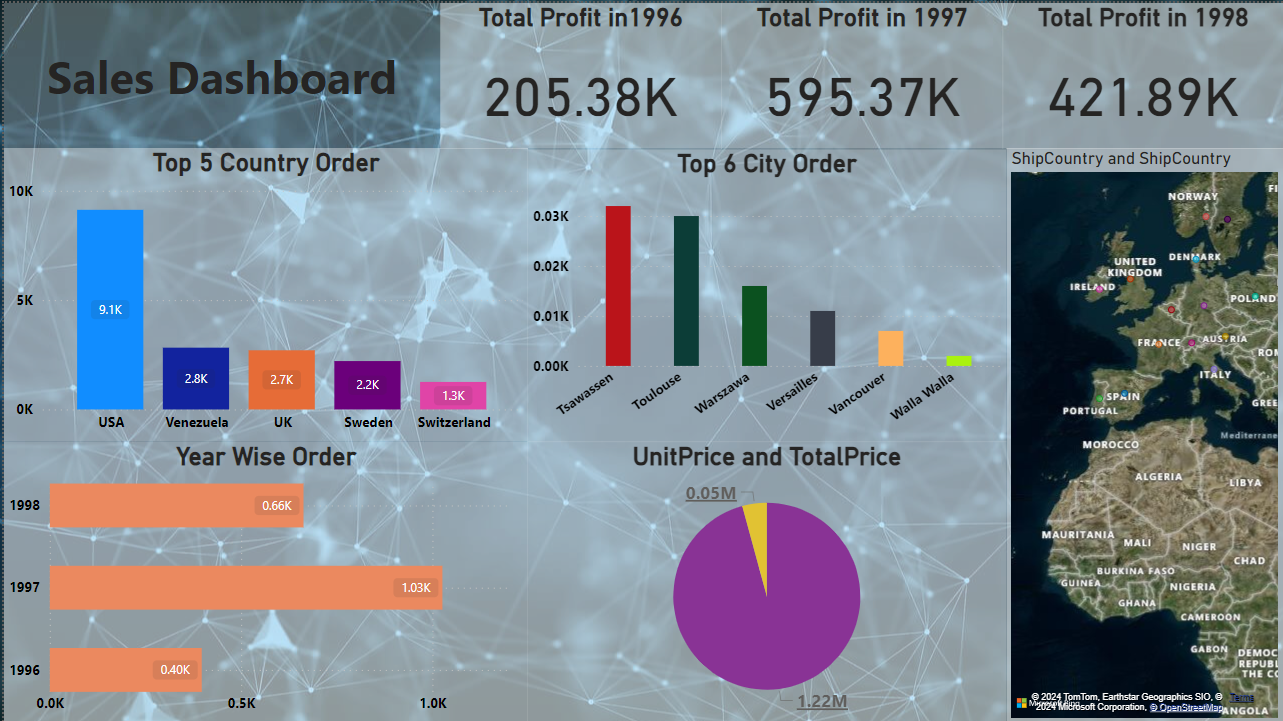

The dashboard page shown, as its layout file describes it:
{"tool":"powerbi","page":{"name":"Page 1","canvas":[1280,720],"ordinal":0},"visuals":[{"type":"barChart","title":"Year Wise Order","fields":{"Category":["Orders.OrderDate.Variation.Date Hierarchy.Year","Orders.OrderDate.Variation.Date Hierarchy.Quarter","Orders.OrderDate.Variation.Date Hierarchy.Month","Orders.OrderDate.Variation.Date Hierarchy.Day"],"Y":["CountNonNull(Order_Details.OrderID)"]},"box":[0,439.1,524.2,281.3],"z":0},{"type":"columnChart","title":"Top 5 Country Order","fields":{"Category":["Orders.ShipCountry"],"Y":["Sum(Order_Details.Quantity)"],"Series":["Orders.ShipCountry"]},"box":[0,145.5,524.2,293.7],"z":1000},{"type":"map","fields":{"Category":["Orders.ShipCountry"],"Series":["Orders.ShipCountry"]},"box":[1003.1,145.5,277.2,575],"z":2000},{"type":"card","title":"Total Profit in1996","fields":{"Values":["Sum(Order_Details.TotalPrice)"]},"box":[436.4,0,281.3,145.5],"z":3000},{"type":"card","title":"Total Profit in 1997","fields":{"Values":["Sum(Order_Details.TotalPrice)"]},"box":[717.7,0,281.3,145.5],"z":4000},{"type":"card","title":"Total Profit in 1998","fields":{"Values":["Sum(Order_Details.TotalPrice)"]},"box":[998.7,0,281.3,145.5],"z":5000},{"type":"ribbonChart","title":"Top 6 City Order","fields":{"Category":["Orders.ShipCity"],"Y":["CountNonNull(Order_Details.OrderID)"],"Series":["Orders.ShipCity"]},"box":[524.3,145.7,478.6,292.9],"z":6000},{"type":"pieChart","title":"UnitPrice and TotalPrice","fields":{"Y":["Sum(Order_Details.TotalPrice)","Sum(Order_Details.UnitPrice)"]},"box":[524.3,438.6,478.6,281.4],"z":6001},{"type":"actionButton","title":"Sales Dashboard","box":[0,42.5,436.2,60],"z":6002}]}

Visuals, with their boxes in screenshot pixels (x1, y1, x2, y2), scaled from the page's 1280x720 canvas onto the 1283x721 screenshot:
"Year Wise Order" barChart: {"left": 0, "top": 440, "right": 525, "bottom": 720}
"Top 5 Country Order" columnChart: {"left": 0, "top": 146, "right": 525, "bottom": 440}
map - Orders.ShipCountry x Orders.ShipCountry: {"left": 1005, "top": 146, "right": 1282, "bottom": 720}
"Total Profit in1996" card: {"left": 437, "top": 0, "right": 719, "bottom": 146}
"Total Profit in 1997" card: {"left": 719, "top": 0, "right": 1001, "bottom": 146}
"Total Profit in 1998" card: {"left": 1001, "top": 0, "right": 1282, "bottom": 146}
"Top 6 City Order" ribbonChart: {"left": 526, "top": 146, "right": 1005, "bottom": 439}
"UnitPrice and TotalPrice" pieChart: {"left": 526, "top": 439, "right": 1005, "bottom": 720}
"Sales Dashboard" actionButton: {"left": 0, "top": 43, "right": 437, "bottom": 103}
